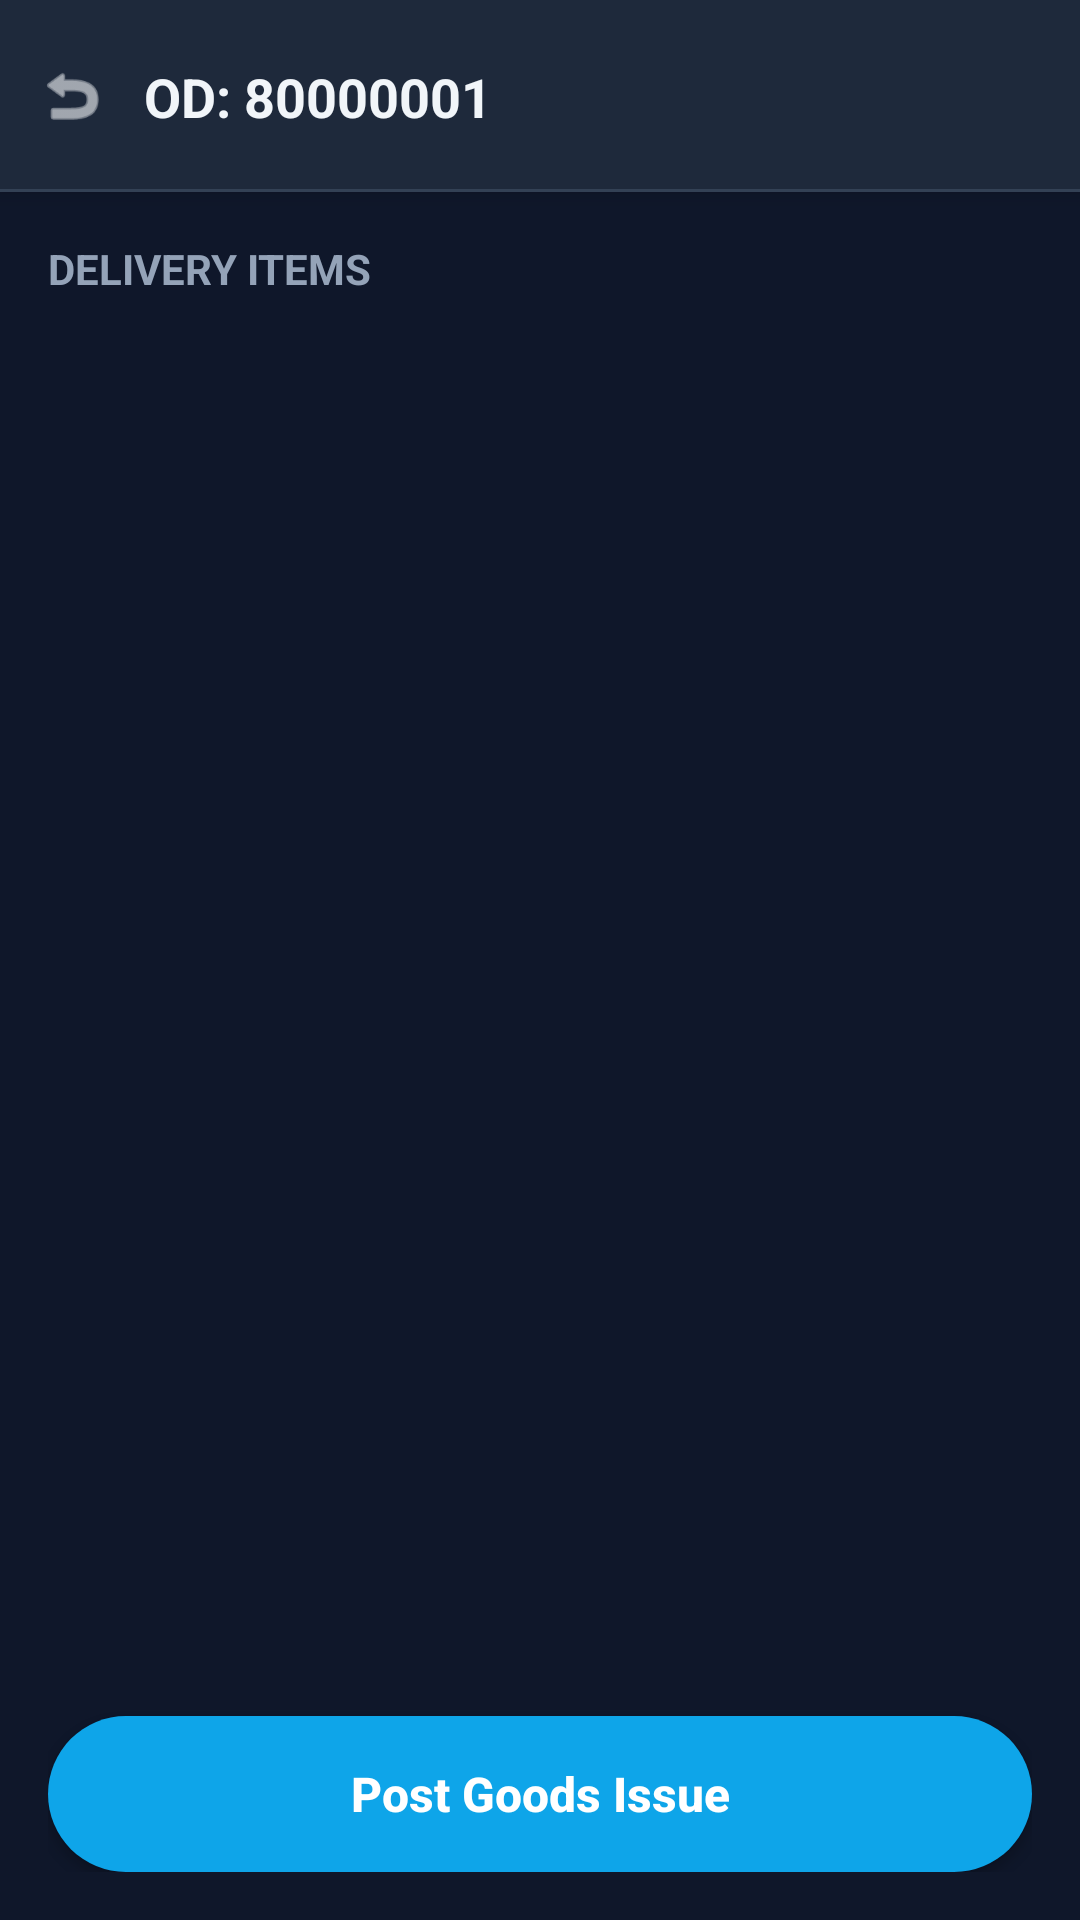

Screen size 1080 × 1920. Icon name, then its center in pixels as (x,y):
revert: (73,96)
